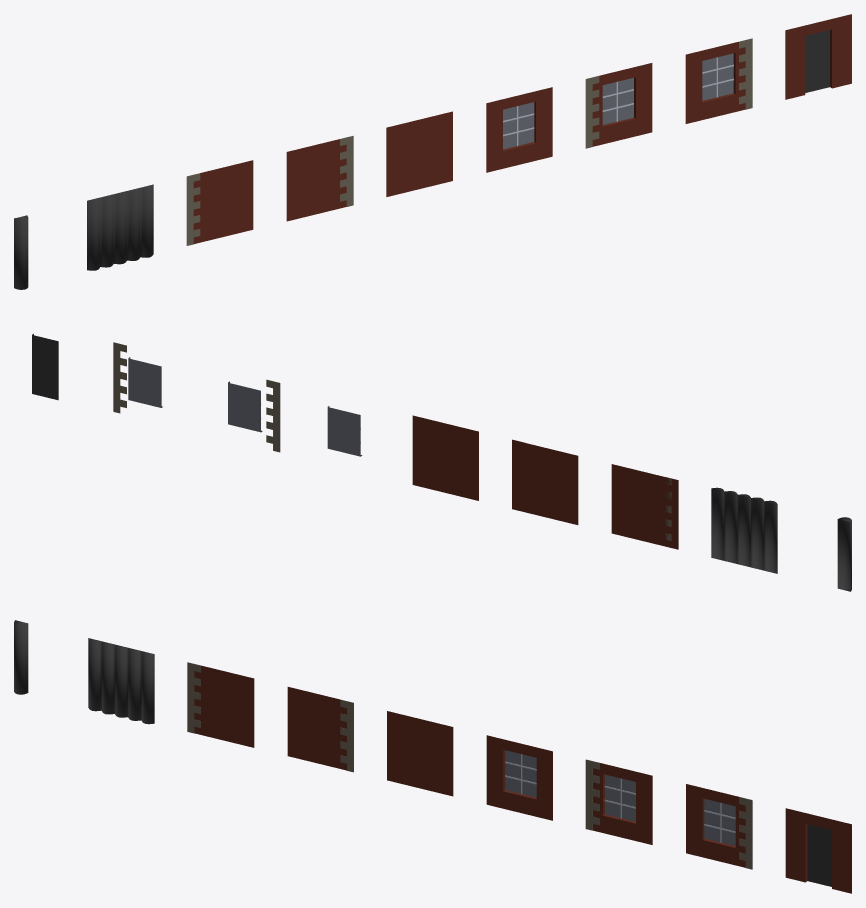
File: building_kit.fbx
3 renders of one model, top to bottom at view 1: azimuth 30°, elevation 25°; view 2: azimuth 150°, elevation 25°; view 3: azimuth 330°, elevation 25°, orthographic.
Visible parts, largest first — view 1: roof_2, wall_2.003, wall_2.001, wall_2.004, wall_2.002, wall_2_window, wall_2, wall_2_door, roof_fill_2; view 2: roof_2, wall_2.001, wall_2.003, wall_2, wall_2.002, wall_2.004, wall_2_door, wall_2_window, roof_fill_2; view 3: roof_2, wall_2.002, wall_2.001, wall_2.003, wall_2.004, wall_2, wall_2_window, wall_2_door, roof_fill_2.
Part boxes in pixels (bbox=[...]): roof_2: bbox=[87, 184, 153, 270]; wall_2.003: bbox=[286, 135, 353, 221]; wall_2.001: bbox=[186, 160, 253, 245]; wall_2.004: bbox=[685, 38, 752, 123]; wall_2.002: bbox=[585, 63, 652, 148]; wall_2_window: bbox=[486, 87, 552, 172]; wall_2: bbox=[386, 111, 452, 196]; wall_2_door: bbox=[785, 14, 851, 99]; roof_fill_2: bbox=[14, 215, 28, 289]; roof_2: bbox=[711, 487, 777, 573]; wall_2.001: bbox=[611, 464, 678, 549]; wall_2.003: bbox=[512, 439, 578, 524]; wall_2: bbox=[412, 415, 478, 500]; wall_2.002: bbox=[228, 379, 280, 452]; wall_2.004: bbox=[113, 342, 162, 413]; wall_2_door: bbox=[32, 333, 58, 400]; wall_2_window: bbox=[327, 406, 362, 456]; roof_fill_2: bbox=[837, 517, 851, 591]; roof_2: bbox=[88, 638, 154, 724]; wall_2.002: bbox=[585, 759, 652, 844]; wall_2.001: bbox=[187, 662, 254, 747]; wall_2.003: bbox=[287, 687, 353, 772]; wall_2.004: bbox=[686, 784, 752, 869]; wall_2: bbox=[387, 711, 453, 796]; wall_2_window: bbox=[486, 735, 552, 820]; wall_2_door: bbox=[785, 808, 851, 893]; roof_fill_2: bbox=[14, 620, 28, 694].
Size of the model in its own units: 2520 by 200 by 32.31.
